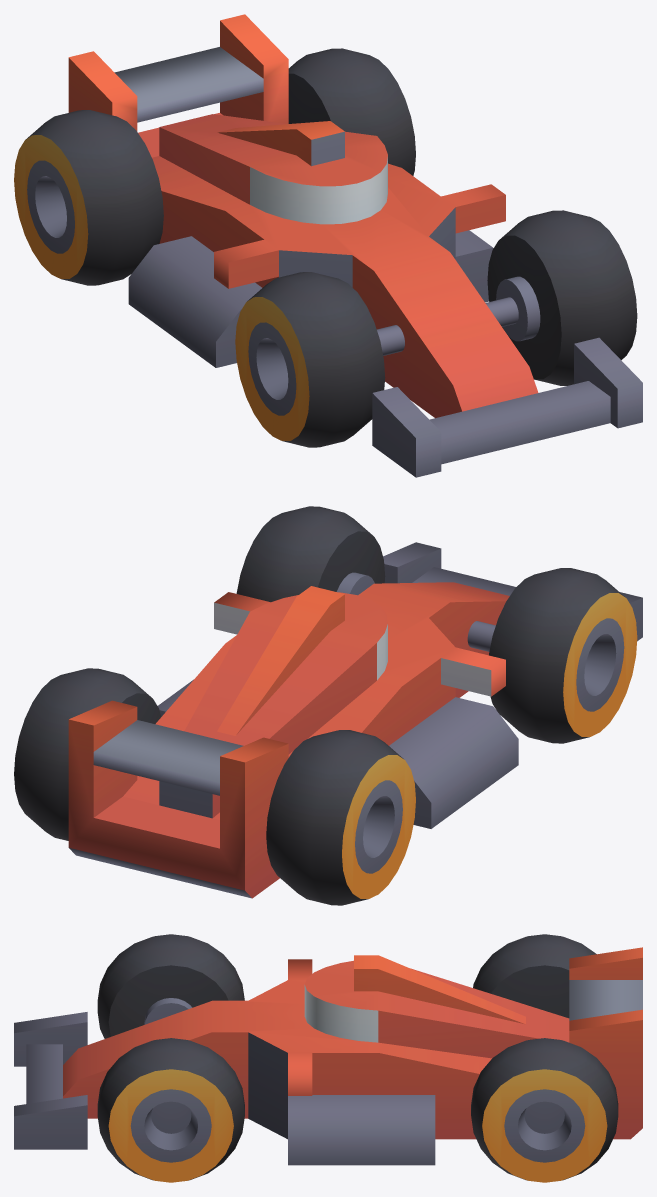
File: racerbil.glb
3 views of the same model, one above another, from view 1: azimuth 30°, elevation 25°; view 2: azimuth 150°, elevation 25°; view 3: azimuth 270°, elevation 25° (orthographic). The views are drawn at different scales.
Visible parts, largest first — view 1: body, wheel-back-right, wheel-front-right, wheel-front-left, wheel-back-left; view 2: body, wheel-back-right, wheel-front-right, wheel-back-left, wheel-front-left; view 3: body, wheel-back-left, wheel-front-left, wheel-front-right, wheel-back-right.
Boxes of the visible parts, x1=… form: body: x1=68, y1=14, x2=642, y2=477; wheel-back-right: x1=14, y1=110, x2=163, y2=285; wheel-front-right: x1=235, y1=272, x2=385, y2=447; wheel-front-left: x1=487, y1=210, x2=637, y2=385; wheel-back-left: x1=288, y1=48, x2=415, y2=175; body: x1=68, y1=542, x2=642, y2=898; wheel-back-right: x1=266, y1=730, x2=415, y2=905; wheel-front-right: x1=489, y1=568, x2=637, y2=743; wheel-back-left: x1=14, y1=668, x2=161, y2=840; wheel-front-left: x1=236, y1=506, x2=385, y2=602; body: x1=14, y1=947, x2=642, y2=1165; wheel-back-left: x1=471, y1=1038, x2=618, y2=1182; wheel-front-left: x1=97, y1=1038, x2=244, y2=1182; wheel-front-right: x1=97, y1=934, x2=244, y2=1038; wheel-back-right: x1=473, y1=934, x2=596, y2=1018.
Bounding box in the file's own units: 1.3 × 0.7325 × 2.56.
Materials: 1 (1 with a texture image).
